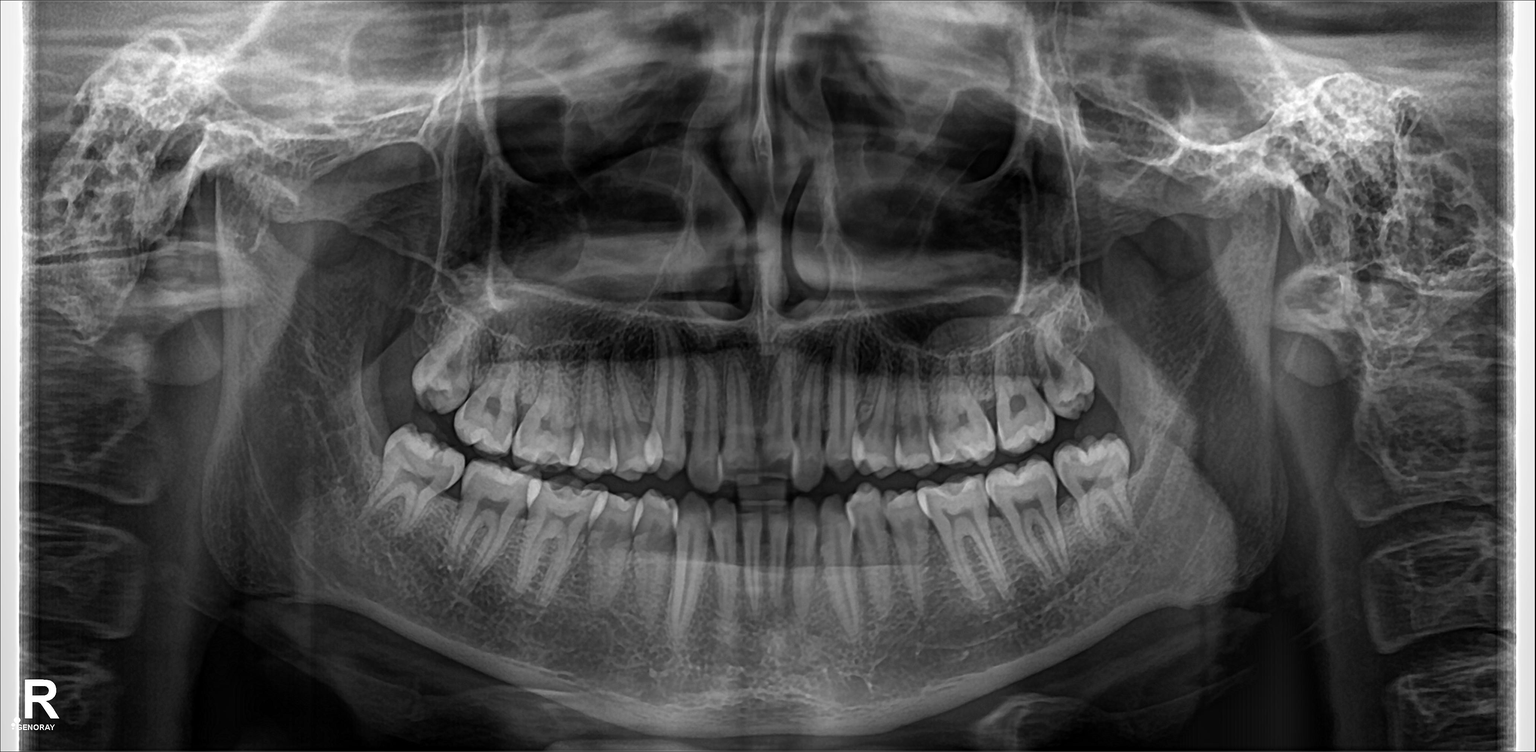Missing Tooth: (373, 322, 422, 401)
